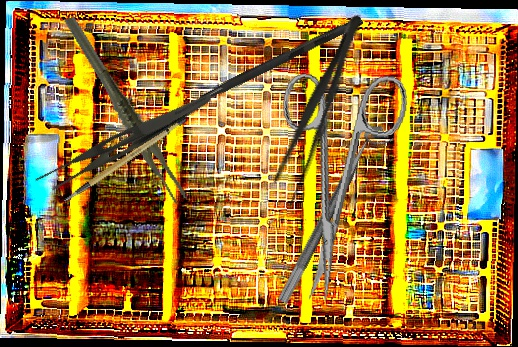Dressing Forceps: (31, 73, 215, 205), (264, 7, 373, 211)
Fixation Ring: (276, 120, 397, 313)
Hook Surgical: (162, 13, 364, 124)
Iris Scissors: (252, 59, 412, 311)
Scalpel Handle: (51, 114, 196, 204)
Tissue Forceps: (62, 1, 189, 218)
